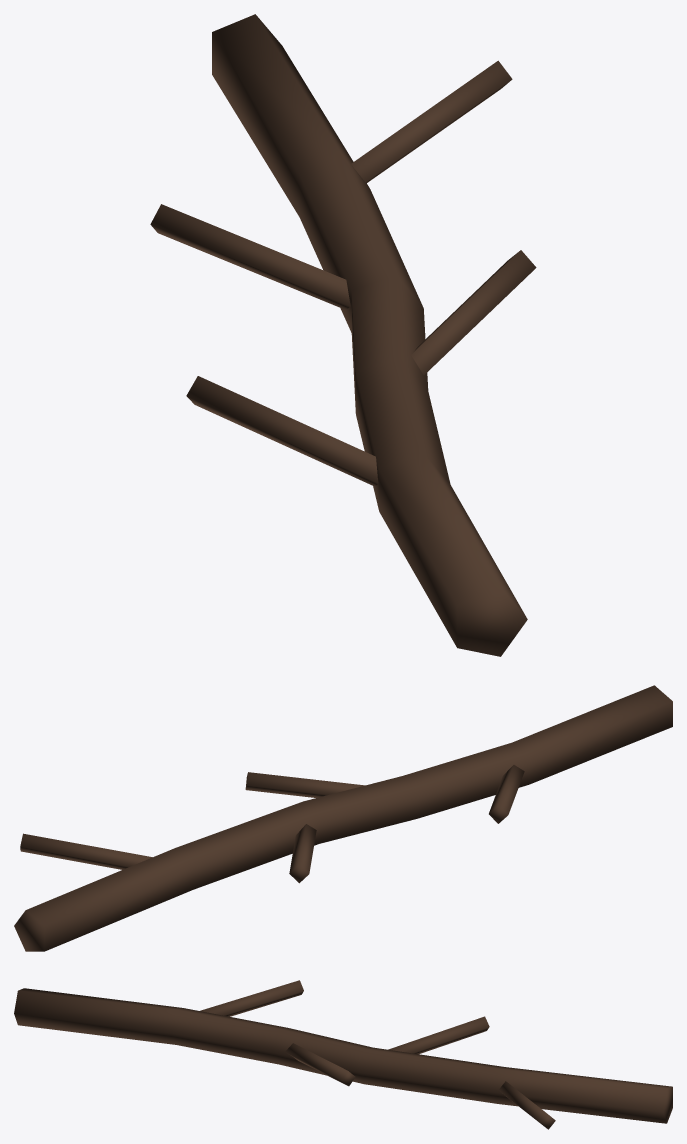
File: kit_scatter_twigs.glb
3 views of the same model, one above another, from view 1: azimuth 30°, elevation 25°; view 2: azimuth 150°, elevation 25°; view 3: azimuth 270°, elevation 25° (orthographic). The views are drawn at different scales.
Visible parts, largest first — view 1: kit_scatter_twigs; view 2: kit_scatter_twigs; view 3: kit_scatter_twigs.
Part boxes in pixels (x1,y1,x2,y2): kit_scatter_twigs: (150,14,536,656); kit_scatter_twigs: (14,685,672,951); kit_scatter_twigs: (14,980,672,1129).
Bounding box in the file's own units: 0.1973 × 0.0264 × 0.3941.
